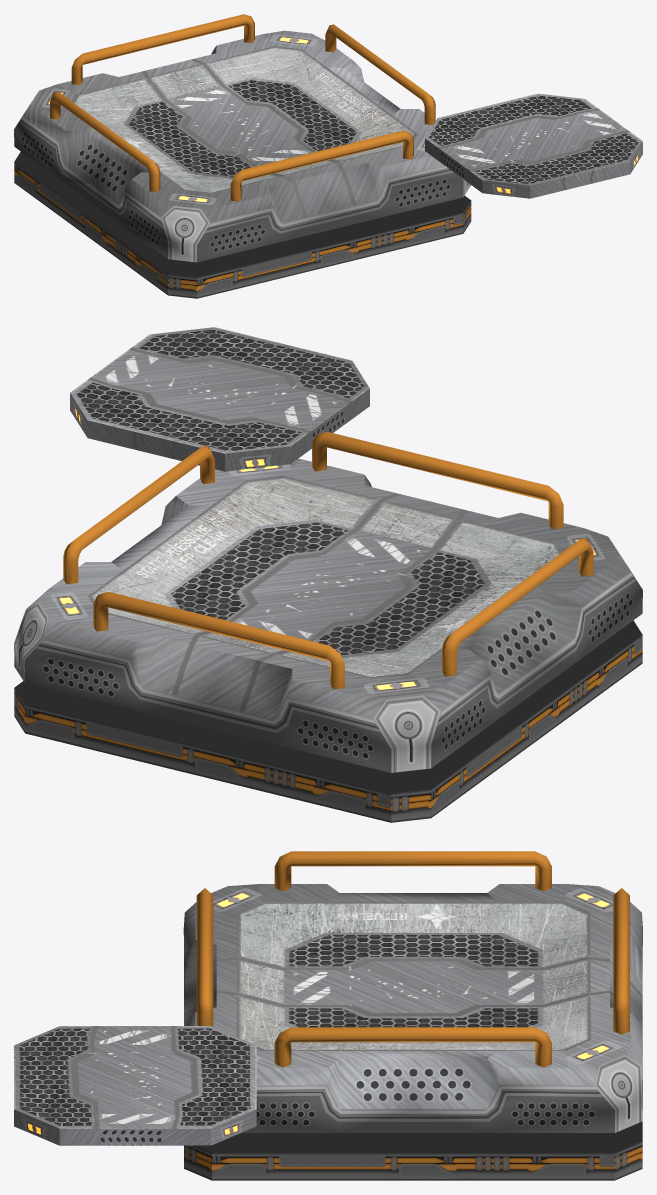
Rendered from drone-depot.glb.
3 renders of one model, top to bottom at view 1: azimuth 30°, elevation 25°; view 2: azimuth 150°, elevation 25°; view 3: azimuth 270°, elevation 25°, orthographic. The views are drawn at different scales.
Parts seen in each view (by area): view 1: Plane.009; view 2: Plane.009; view 3: Plane.009.
Part boxes in pixels (box(x1,y1,x2,y2)): Plane.009: box(14, 14, 642, 298); Plane.009: box(14, 327, 642, 822); Plane.009: box(14, 851, 642, 1180).
Bounding box in the file's own units: 19.62 × 4.95 × 19.56.
Materials: 1 (1 with a texture image).
